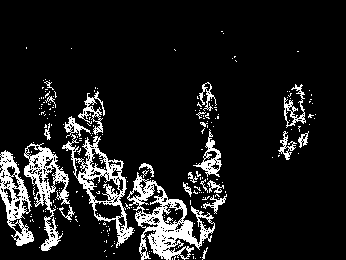person: (25, 143, 79, 249), (183, 147, 227, 256), (85, 153, 135, 248), (142, 199, 203, 260), (1, 150, 35, 247), (130, 163, 169, 244), (64, 119, 96, 196), (196, 80, 219, 150), (35, 76, 57, 140), (282, 89, 301, 160), (293, 84, 314, 147)
